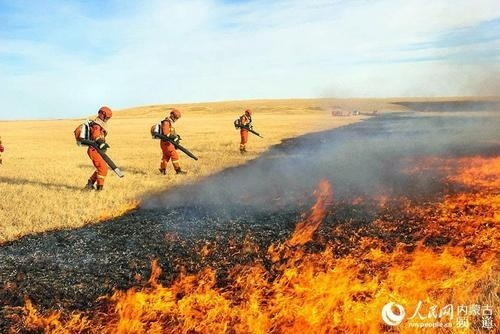fire: (84, 166, 500, 334)
